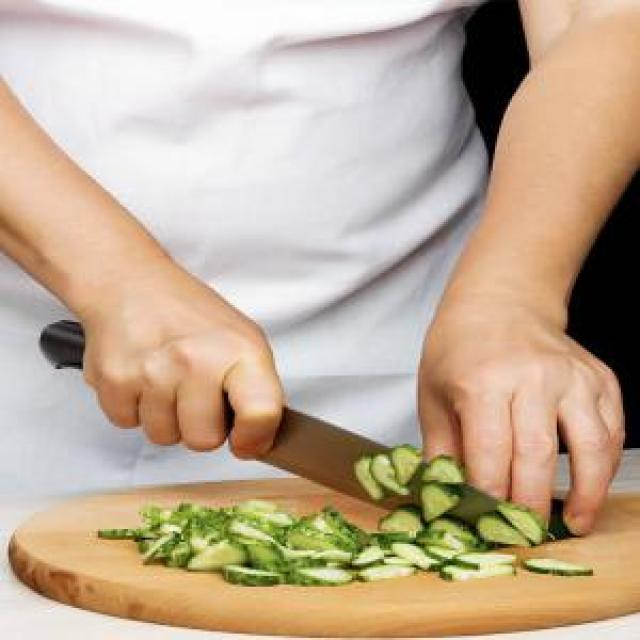knife: (36, 318, 553, 544)
